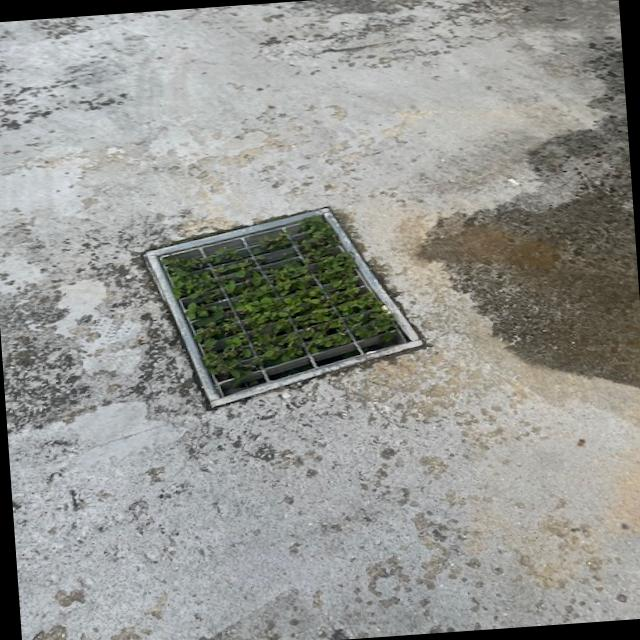drain_area: (240, 338, 399, 388), (165, 224, 301, 265)
drain_full: (158, 214, 408, 396)
